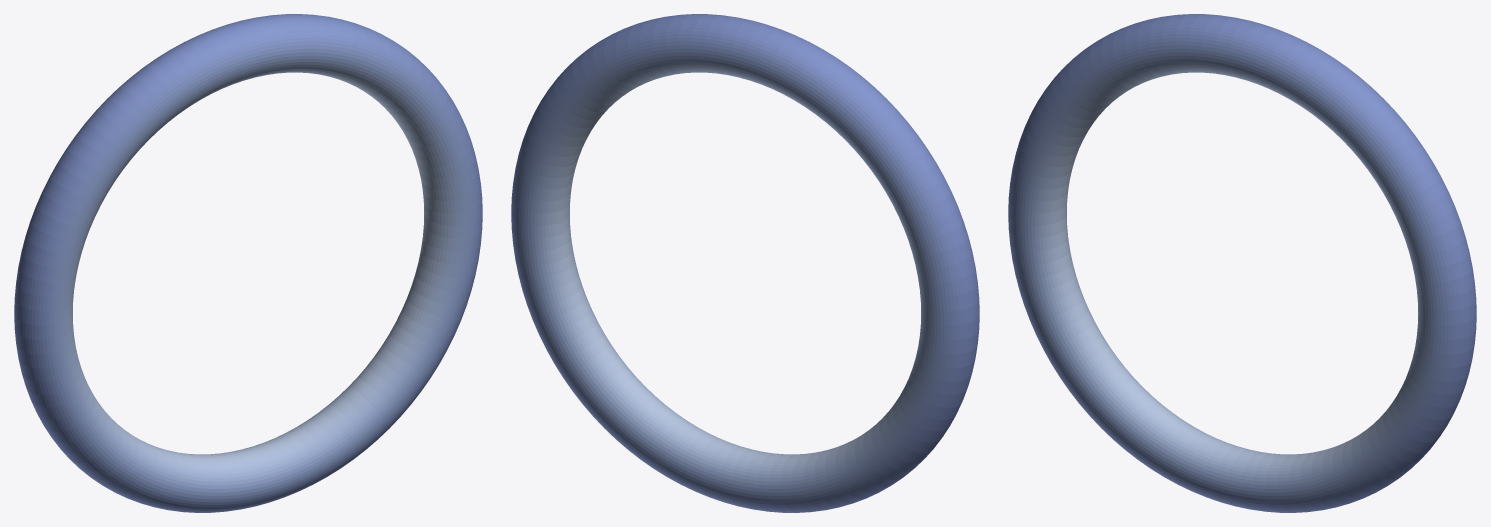
3 views of the same model, side by side, from view 1: azimuth 30°, elevation 25°; view 2: azimuth 150°, elevation 25°; view 3: azimuth 330°, elevation 25° (orthographic).
Parts seen in each view (by area): view 1: world; view 2: world; view 3: world.
Boxes of the visible parts, <box> form: world: <box>14,14,482,512</box>; world: <box>511,14,979,512</box>; world: <box>1008,14,1476,512</box>.
Size of the model in its own units: 26.22 by 26.22 by 2.88.
